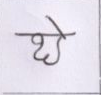e_matra: (46, 16, 66, 33)
